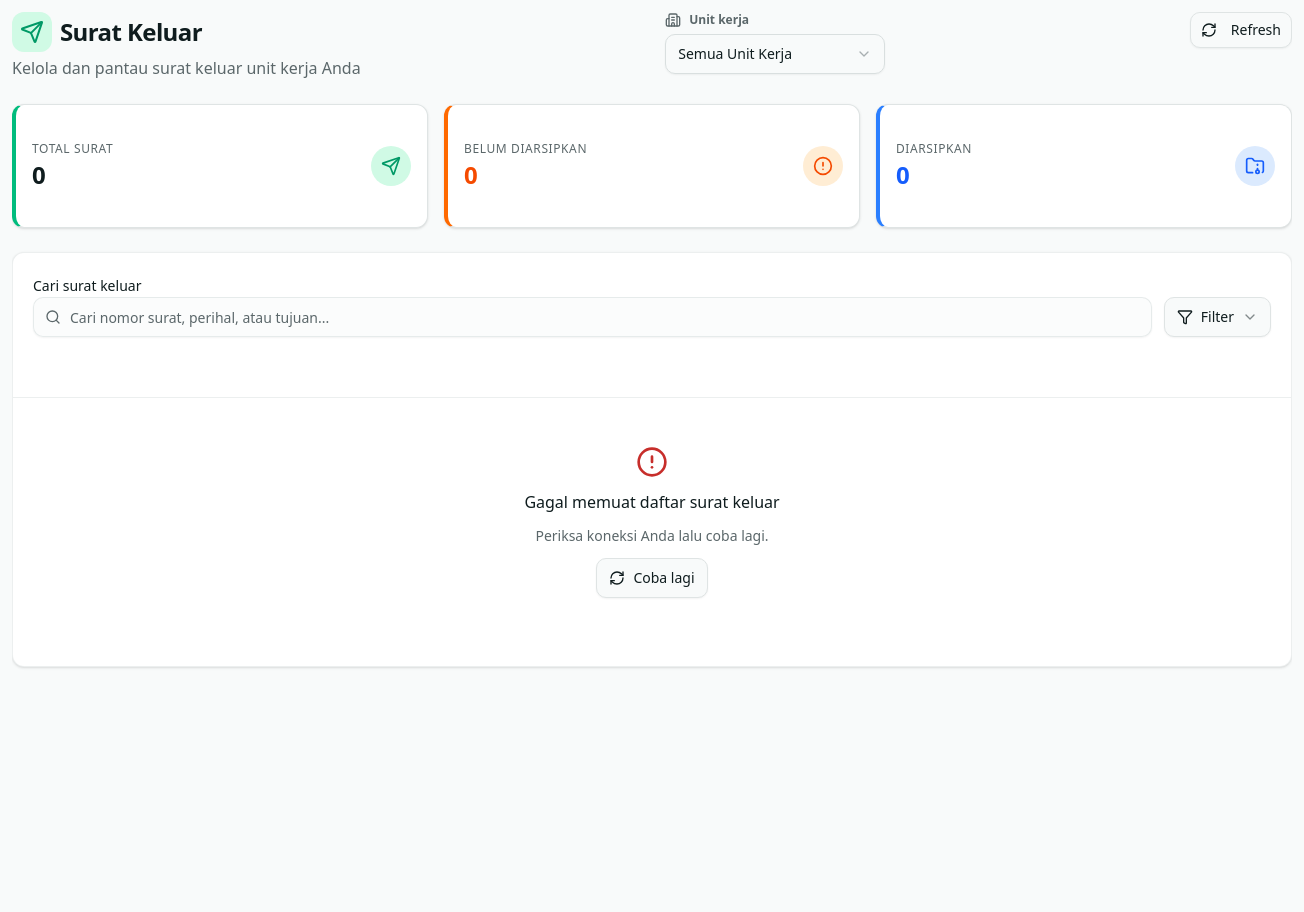
persistent keluar list feedback › keeps a failure visible instead of an empty list and recovers with retry
expect the message shows "Gagal memuat daftar surat keluar": met, box [524, 491, 780, 513]
Step 1. Click the button "Coba lagi" → (652, 578), box [596, 558, 708, 598]
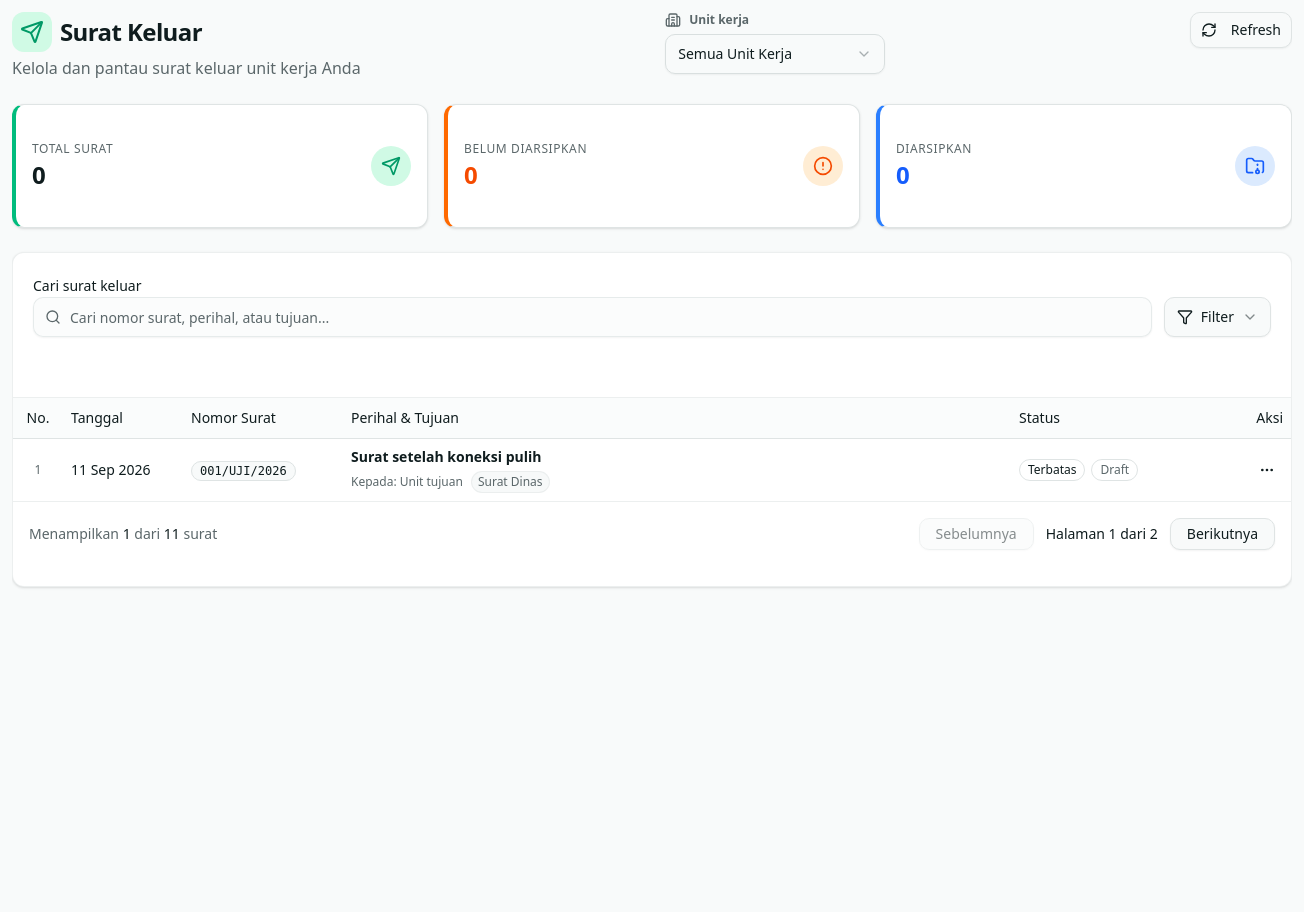
expect the text "Surat setelah koneksi pulih" is shown: met, box [351, 446, 542, 466]
expect the message "Gagal memuat daftar surat keluar Periksa koneksi Anda lalu coba lagi. Coba lagi" is gone: met
